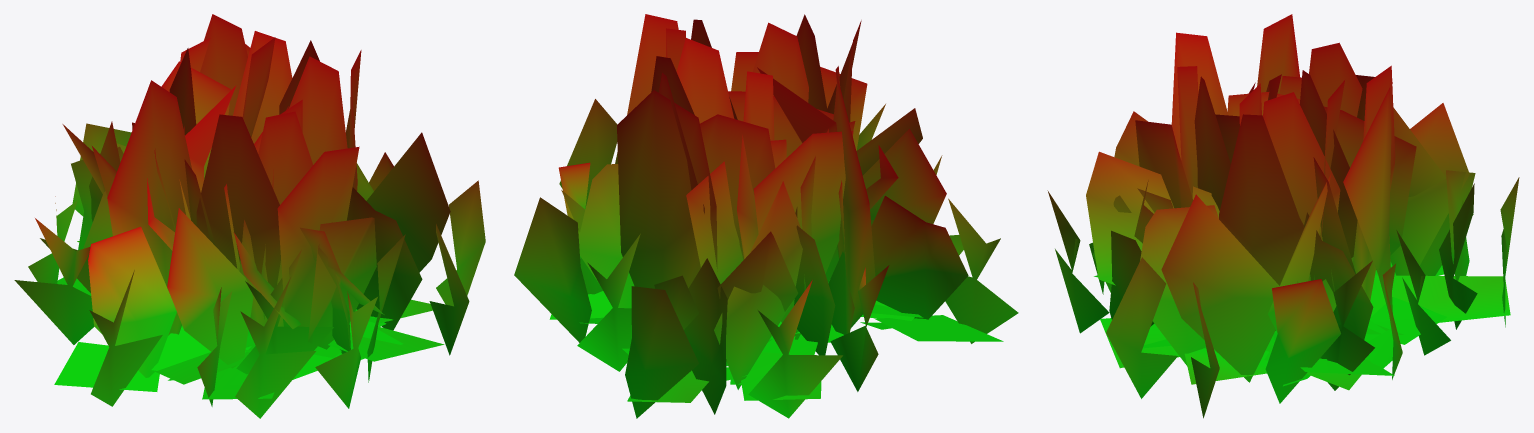
Rendered from Kikuyu Grass_LOD5_Var2_wiljearqx.fbx.
The picture shows the model from 3 angles, left to right: view 1: azimuth 30°, elevation 25°; view 2: azimuth 150°, elevation 25°; view 3: azimuth 270°, elevation 25°; orthographic projection. The views are drawn at different scales.
Visible parts, largest first — view 1: _wr4f_Var2_LOD5; view 2: _wr4f_Var2_LOD5; view 3: _wr4f_Var2_LOD5.
Boxes of the visible parts, left/top/right/bottom form: _wr4f_Var2_LOD5: left=14, top=14, right=485, bottom=418; _wr4f_Var2_LOD5: left=514, top=14, right=1018, bottom=418; _wr4f_Var2_LOD5: left=1047, top=14, right=1519, bottom=418.
Bounding box in the file's own units: 82.33 × 51.65 × 78.61.
